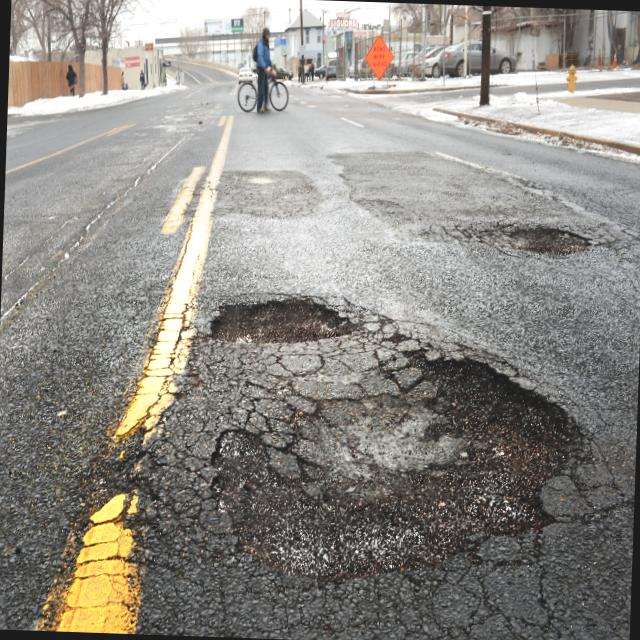bad-road: (206, 338, 592, 592), (208, 294, 363, 339), (507, 220, 594, 260)
